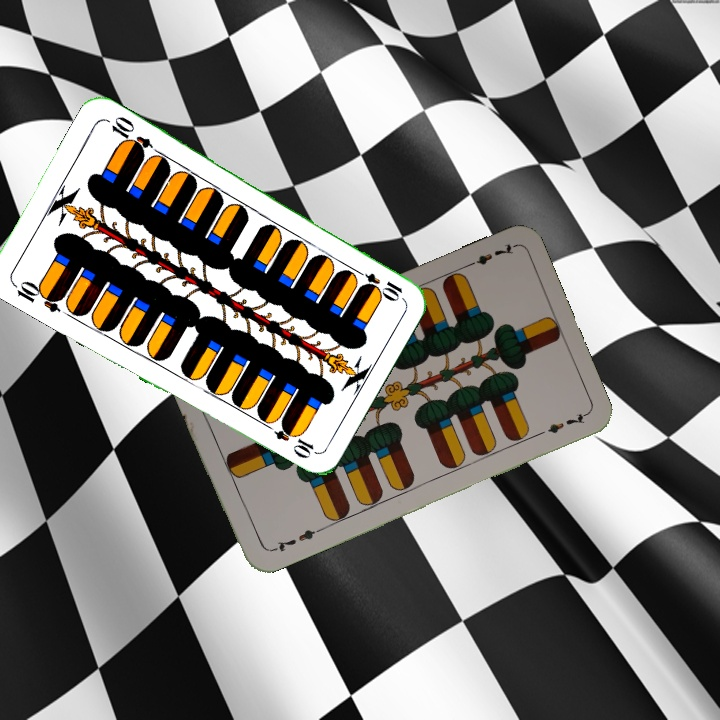E10: (8, 276, 66, 315), (349, 265, 405, 303)
E7: (460, 239, 517, 271), (265, 525, 322, 555)
